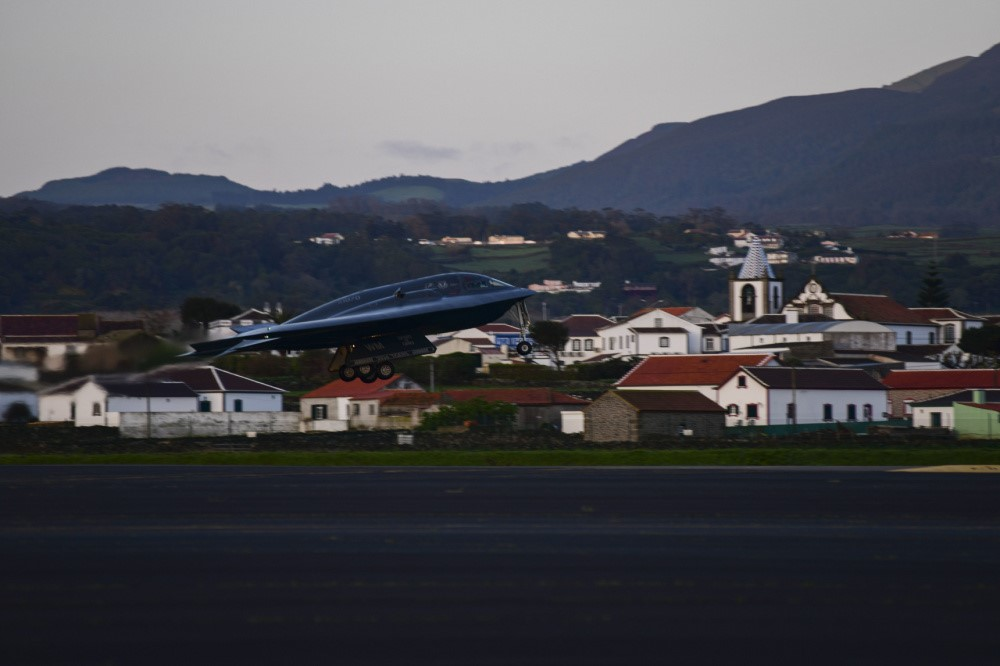B2: (174, 272, 537, 384)
